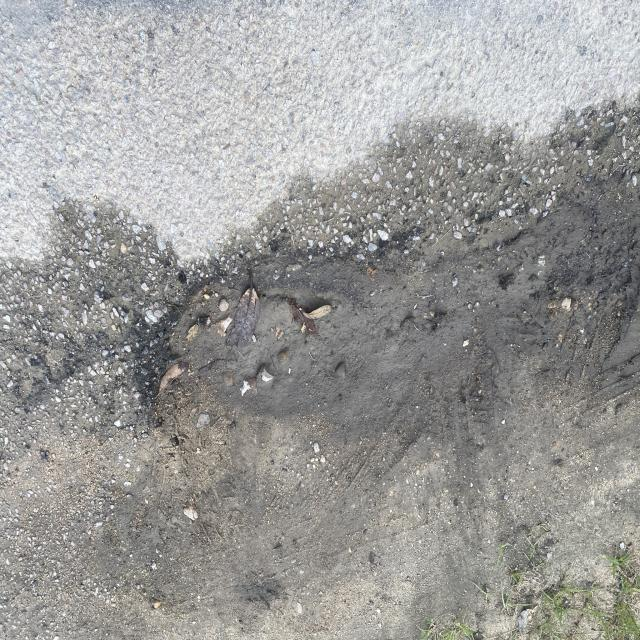pothole: (70, 159, 402, 415)
